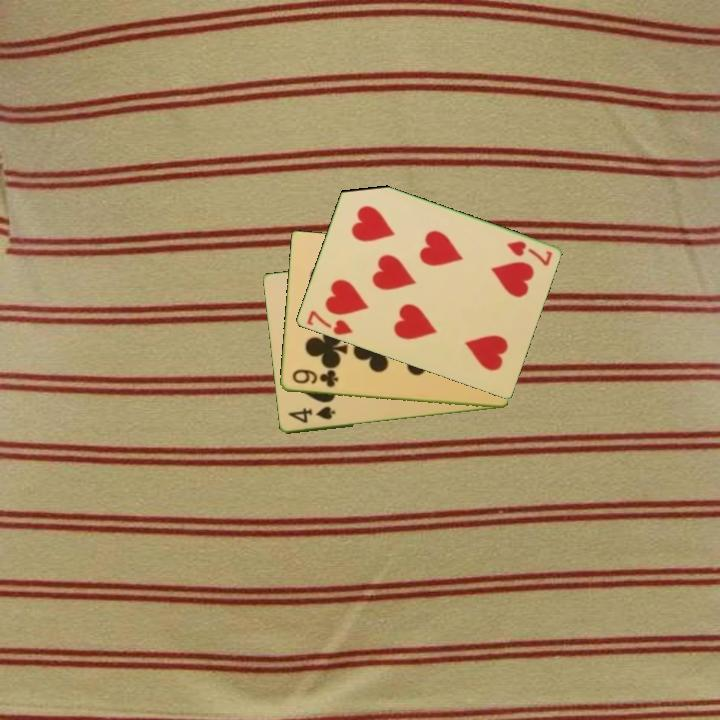4s: (285, 403, 338, 426)
7h: (503, 237, 555, 269), (303, 307, 356, 338)
9c: (289, 366, 341, 390)
